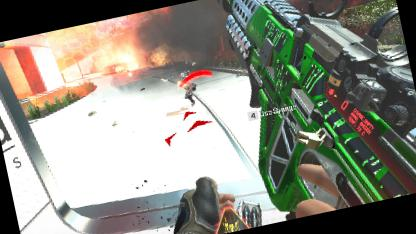Target: (176, 70, 197, 104)
